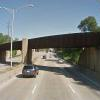Bridge: (5, 21, 97, 58)
